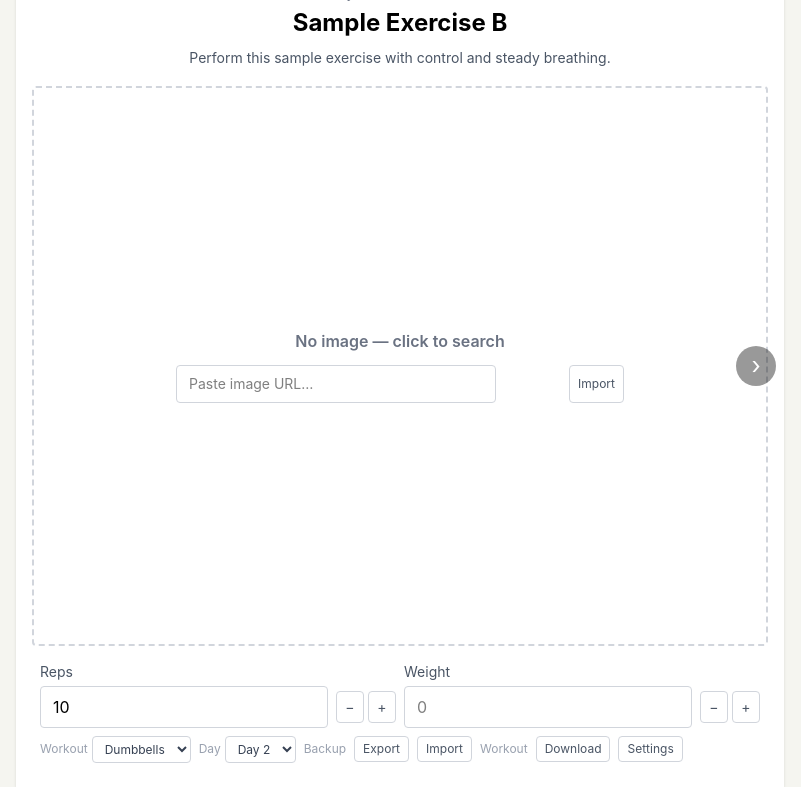
Test: App › Settings › changes how many day sections are listed
(page scrolled)
Click the button "Settings".
click(651, 749)  # box [618,736,683,762]
(page scrolled)
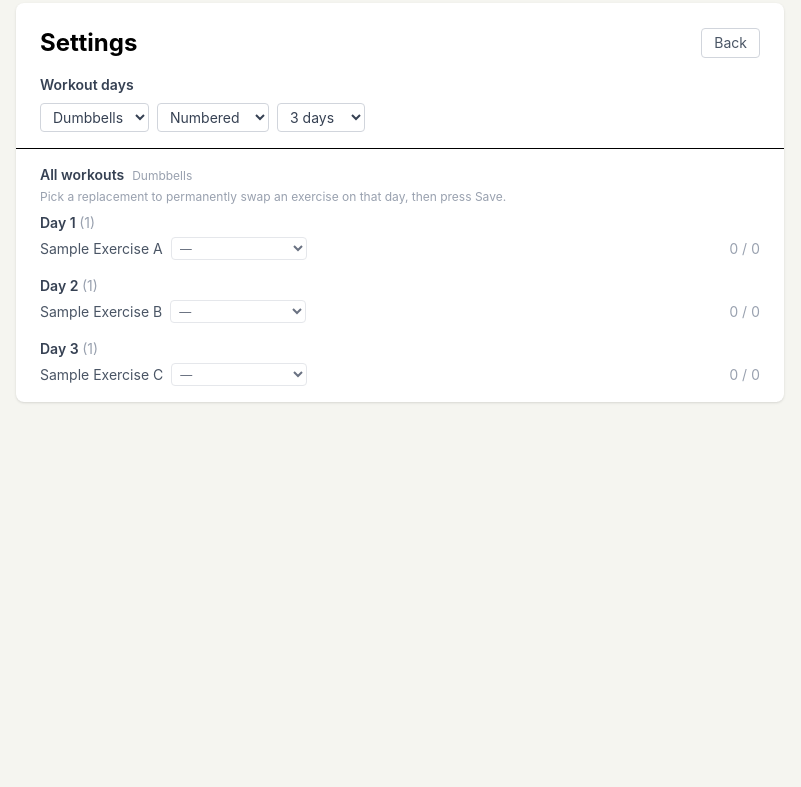
expect the heading "All workouts" is shown: met, box [40,165,124,185]
Select "2 days" in the dropdown named "Day count" at [321, 118], box [277,103,365,132]
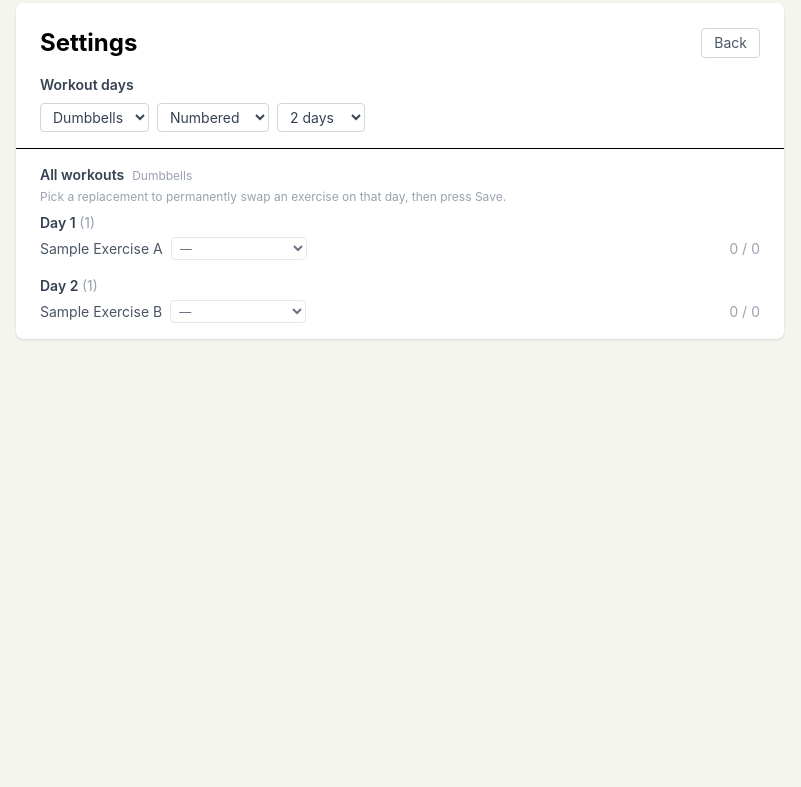
expect the heading "Day 1 (1)" is shown: met, box [40,214,95,231]
expect the heading "Day 2 (1)" is shown: met, box [40,277,98,294]
expect the heading "Day 3" is gone: met
